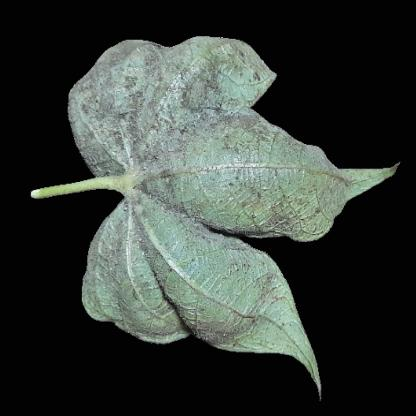curl_stage2: (153, 237, 247, 323), (248, 287, 296, 355)
sooty: (82, 67, 200, 167), (189, 59, 274, 155), (235, 159, 310, 239), (136, 150, 193, 229), (91, 228, 143, 310)
